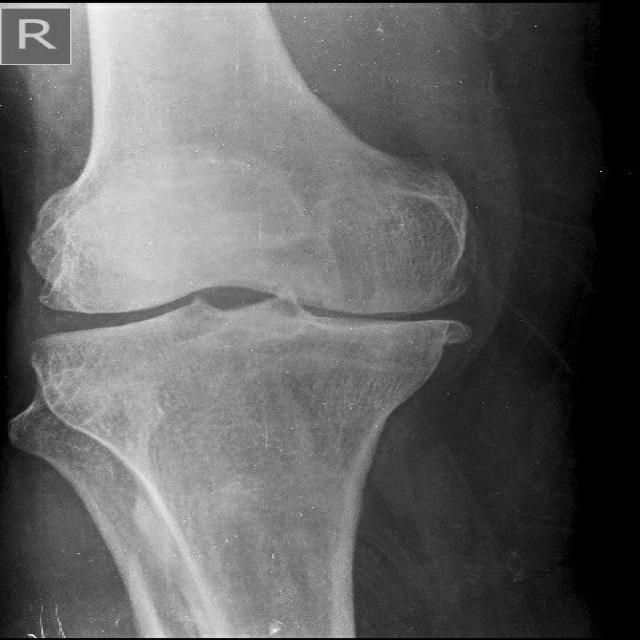osteo: (23, 169, 469, 406)
